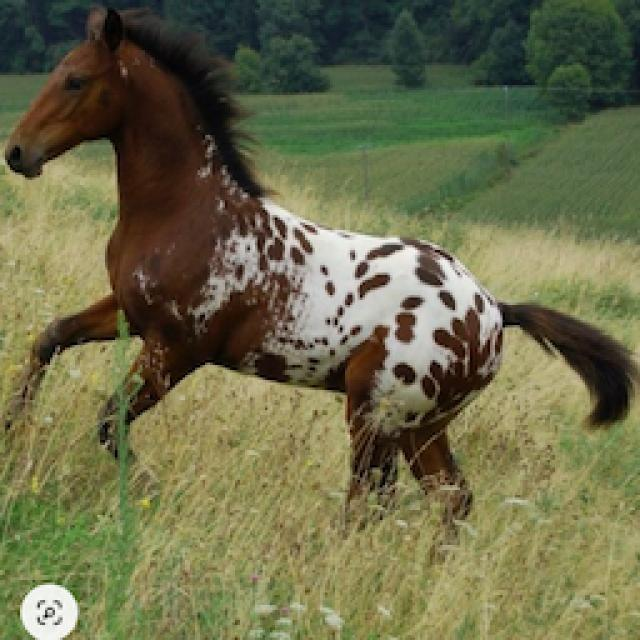Horse: (2, 0, 640, 540)
